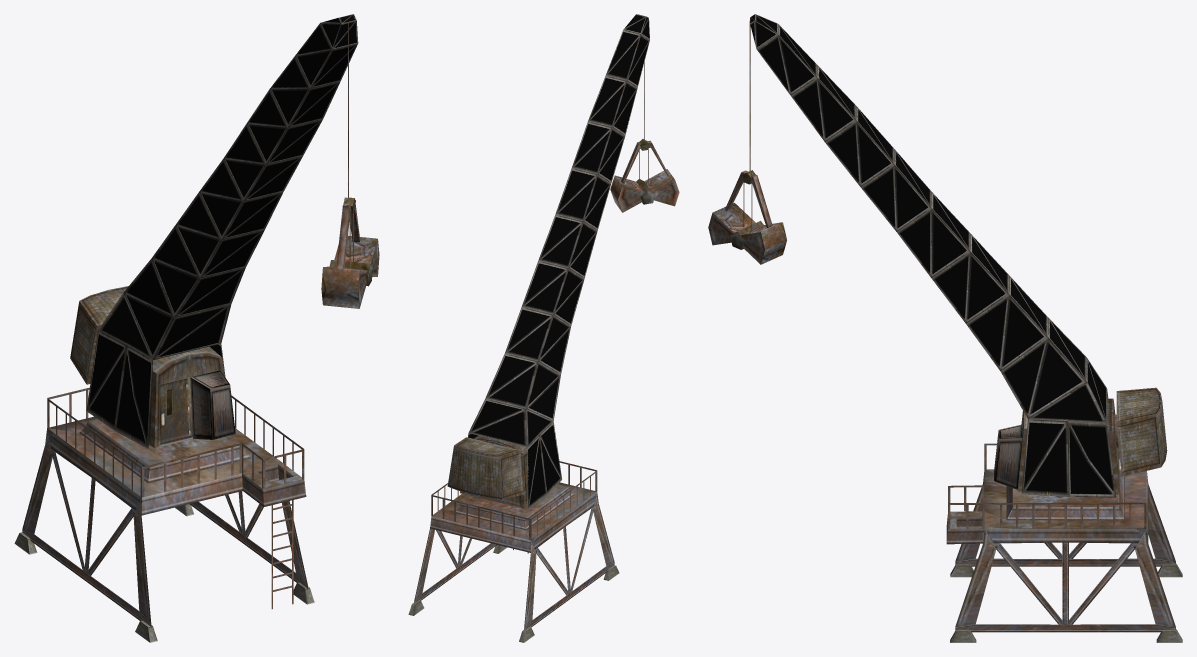
The model's file is harbor_crane_2.fbx.
The picture shows the model from 3 angles, left to right: view 1: azimuth 30°, elevation 25°; view 2: azimuth 150°, elevation 25°; view 3: azimuth 270°, elevation 25°; orthographic projection. The views are drawn at different scales.
Parts seen in each view (by area): view 1: harbor_crane_2; view 2: harbor_crane_2; view 3: harbor_crane_2.
Boxes of the visible parts, <box> form: harbor_crane_2: <box>14,14,379,642</box>; harbor_crane_2: <box>408,14,679,642</box>; harbor_crane_2: <box>708,14,1182,642</box>.
Size of the model in its own units: 547 by 2193 by 1594.
